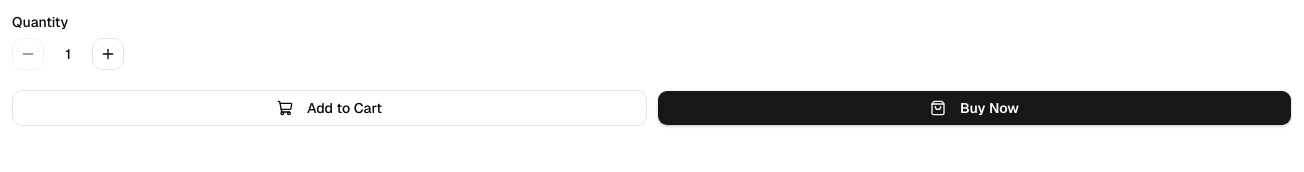
Test case: quantity controls › increments the quantity value
The image size is (1304, 172).
Expected: the text "1" is shown, [65,45,71,63]
Click the button named "increase quantity" at (108, 54), box [92,38,124,70]
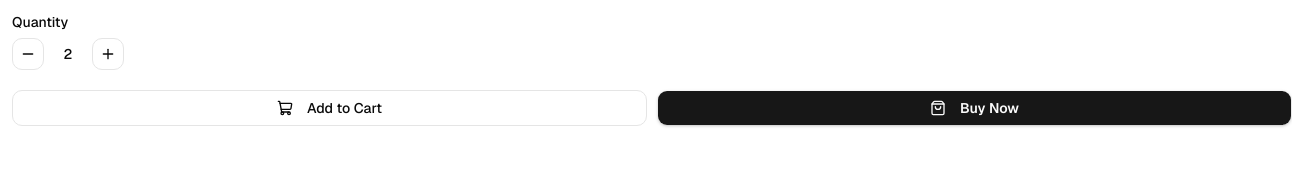
Result: the text "2" is shown at [64,45,72,63]
